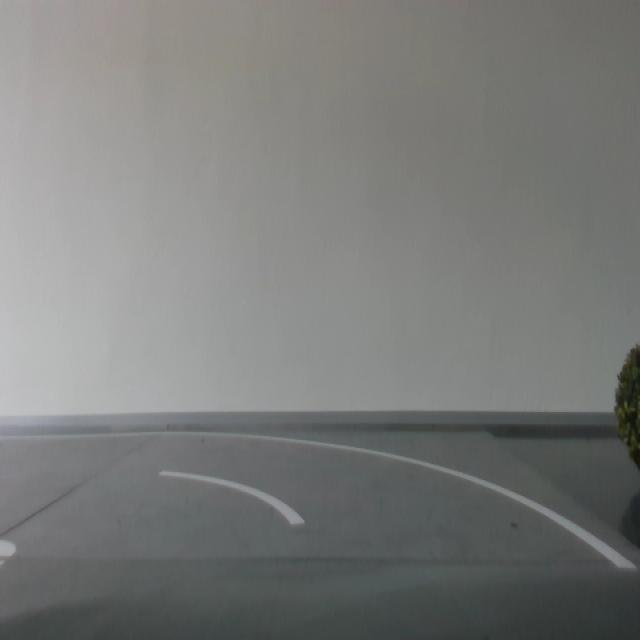potted plant: (614, 341, 640, 481)
